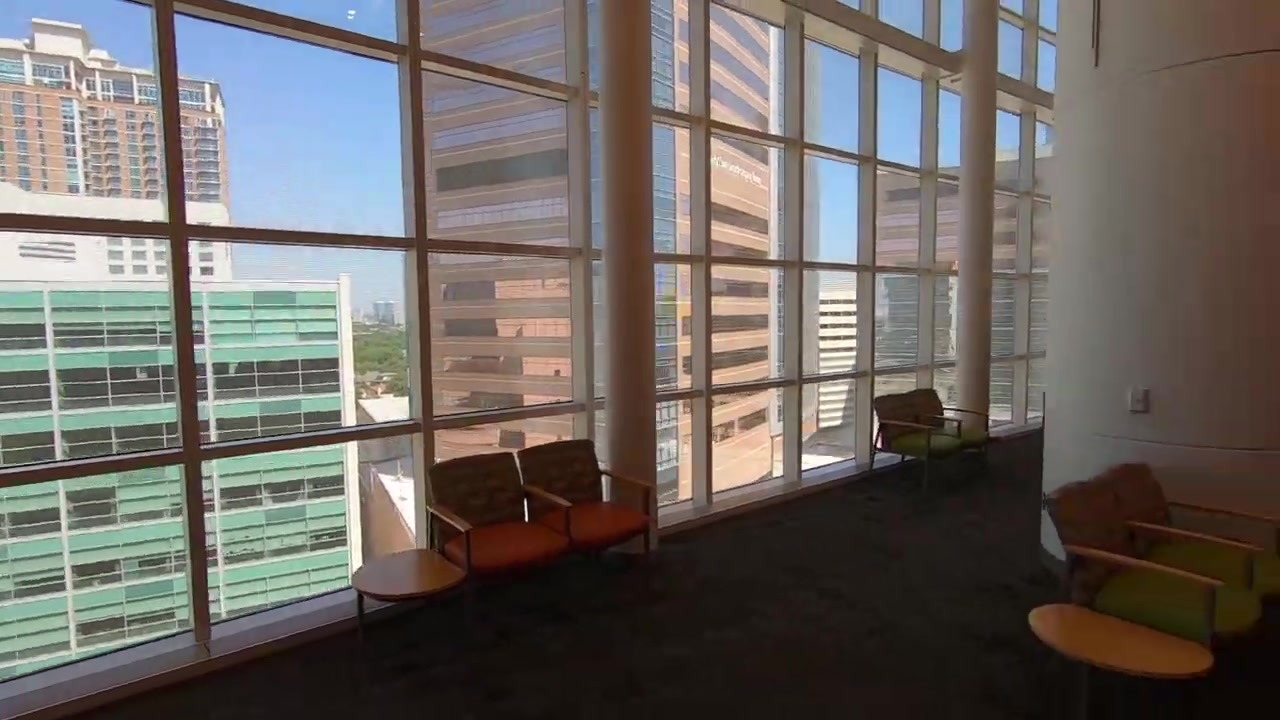chair: (1042, 476, 1260, 640), (1109, 462, 1280, 590), (427, 448, 569, 585), (523, 439, 656, 572), (863, 392, 958, 492), (912, 387, 991, 469)
light_switch: (1124, 383, 1153, 417)
table: (1025, 602, 1216, 720), (350, 548, 466, 642)
